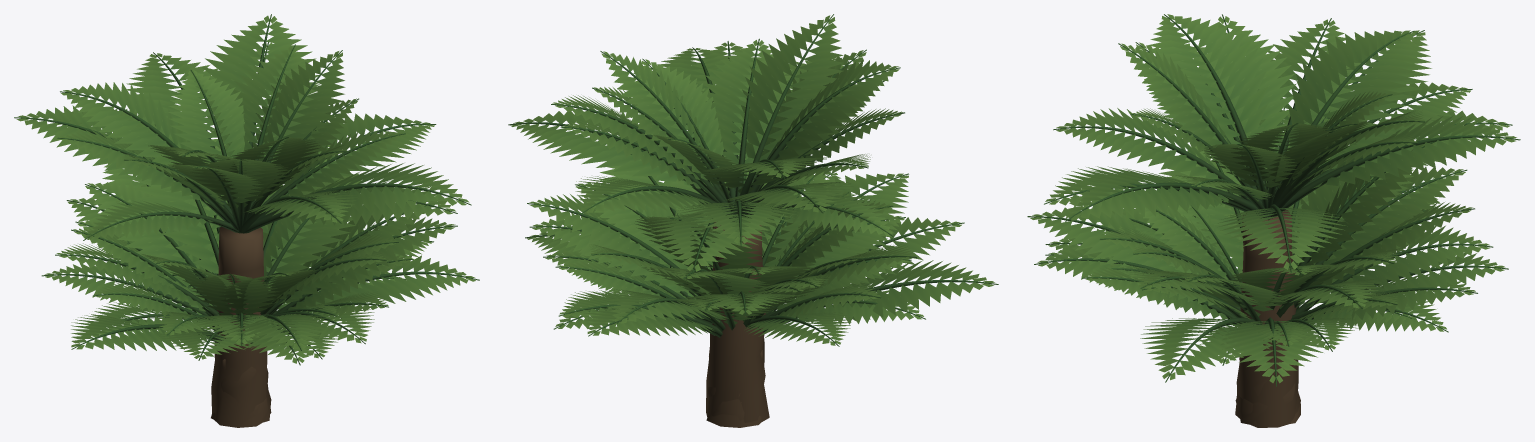
The model's file is cycad.glb.
3 renders of one model, left to right at view 1: azimuth 30°, elevation 25°; view 2: azimuth 150°, elevation 25°; view 3: azimuth 270°, elevation 25°, orthographic. The views are drawn at different scales.
Parts seen in each view (by area): view 1: cycad2, cycad0, cycad1; view 2: cycad2, cycad0, cycad1; view 3: cycad2, cycad0, cycad1.
Boxes of the visible parts, x1,y1,x2,y2 form: cycad2: [14, 14, 471, 427]; cycad0: [41, 125, 479, 422]; cycad1: [71, 181, 431, 427]; cycad2: [508, 14, 904, 422]; cycad0: [525, 134, 964, 425]; cycad1: [543, 136, 998, 427]; cycad2: [1044, 14, 1520, 427]; cycad0: [1027, 108, 1474, 424]; cycad1: [1045, 150, 1508, 427].
Size of the model in its own units: 3.6 by 2.77 by 3.44.
